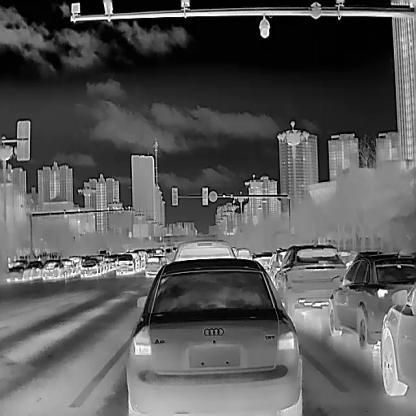car: (124, 257, 300, 415), (328, 250, 416, 350), (272, 243, 347, 318), (379, 282, 415, 396), (172, 238, 235, 263), (5, 258, 28, 280), (41, 258, 64, 280), (113, 253, 135, 273), (143, 254, 162, 276), (28, 258, 44, 280), (80, 257, 98, 275), (61, 258, 77, 277), (236, 247, 250, 258)
